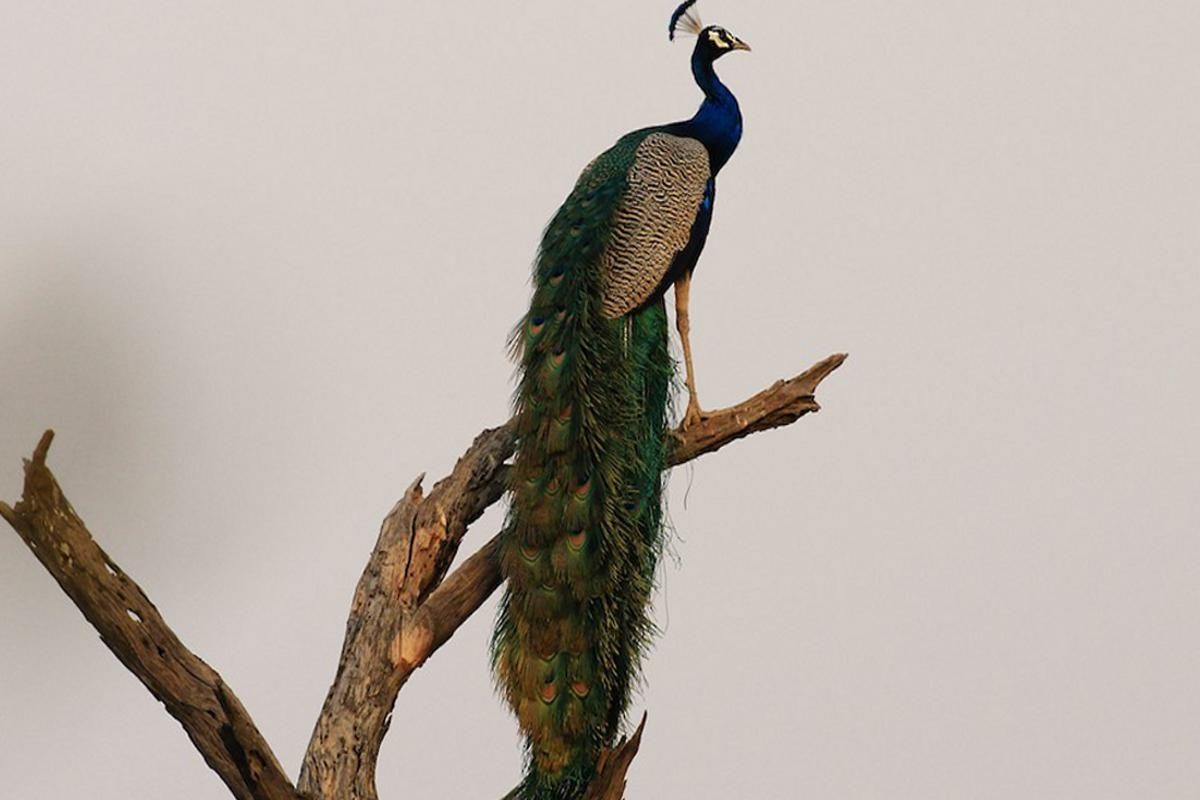peacock: (398, 22, 783, 752)
